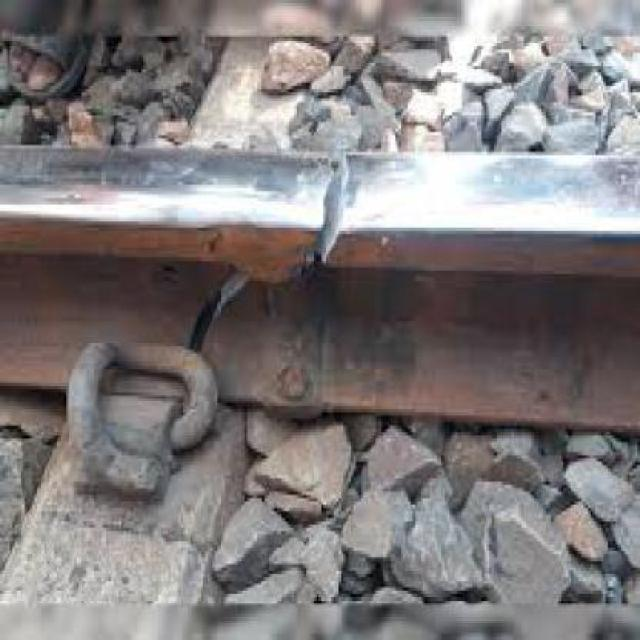defective: (4, 71, 640, 548)
